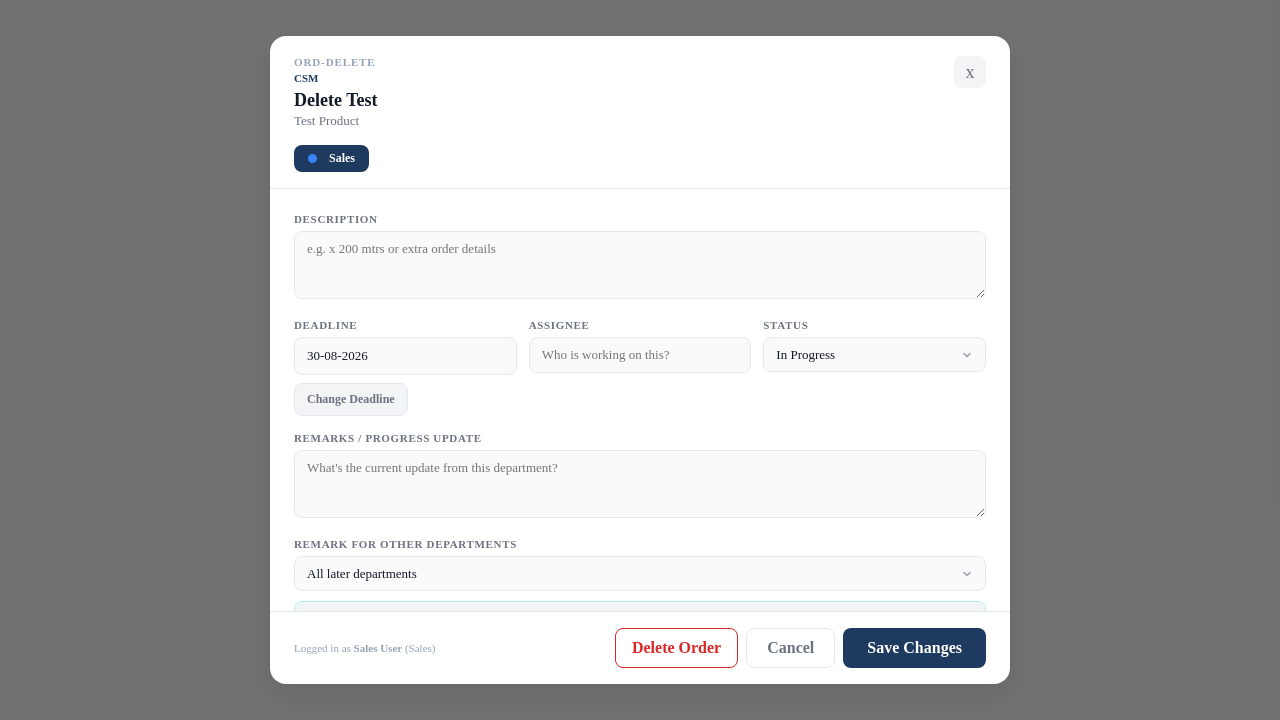
Scenario: OrderModal deletion › does not delete when confirmation is cancelled
Click the button "Delete Order": click(677, 648) [615,628,738,668]
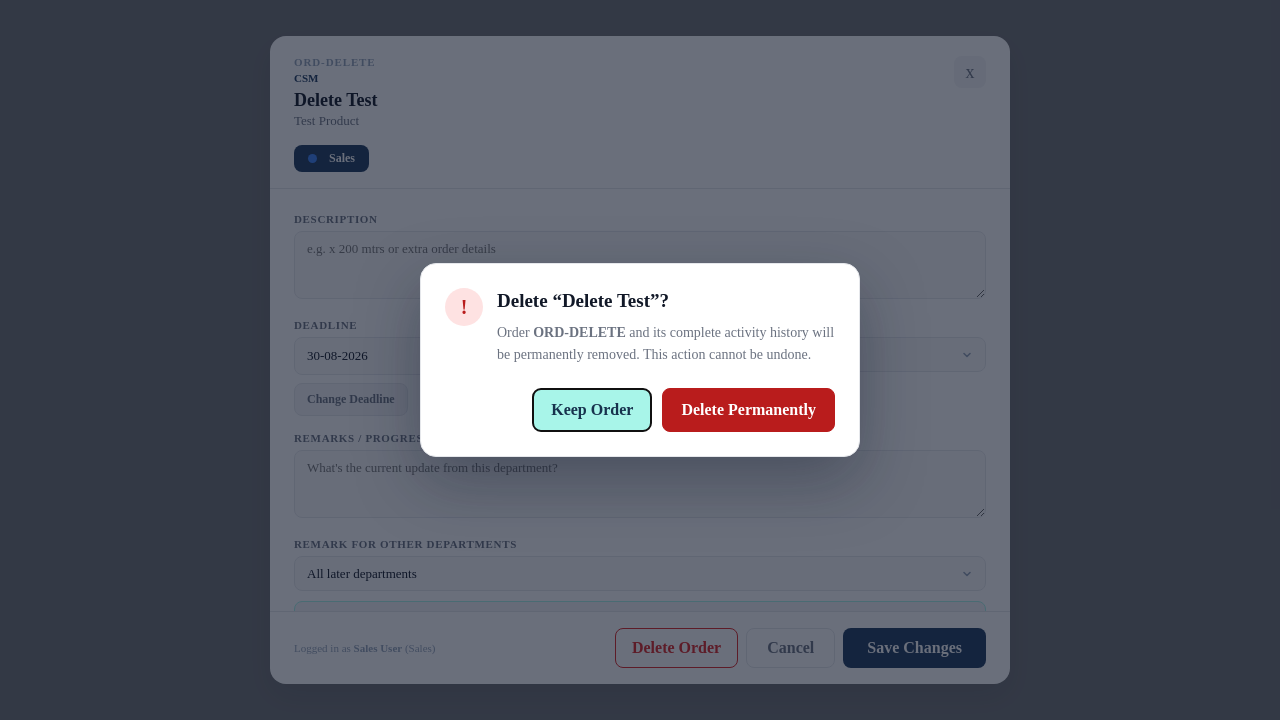
Result: the heading "Delete “Delete Test”?" is shown at [497,290,669,312]
Result: the dialog shows "Order ORD-DELETE" at [420,264,860,456]
Click the button "Keep Order": click(592, 410) [532,388,652,432]
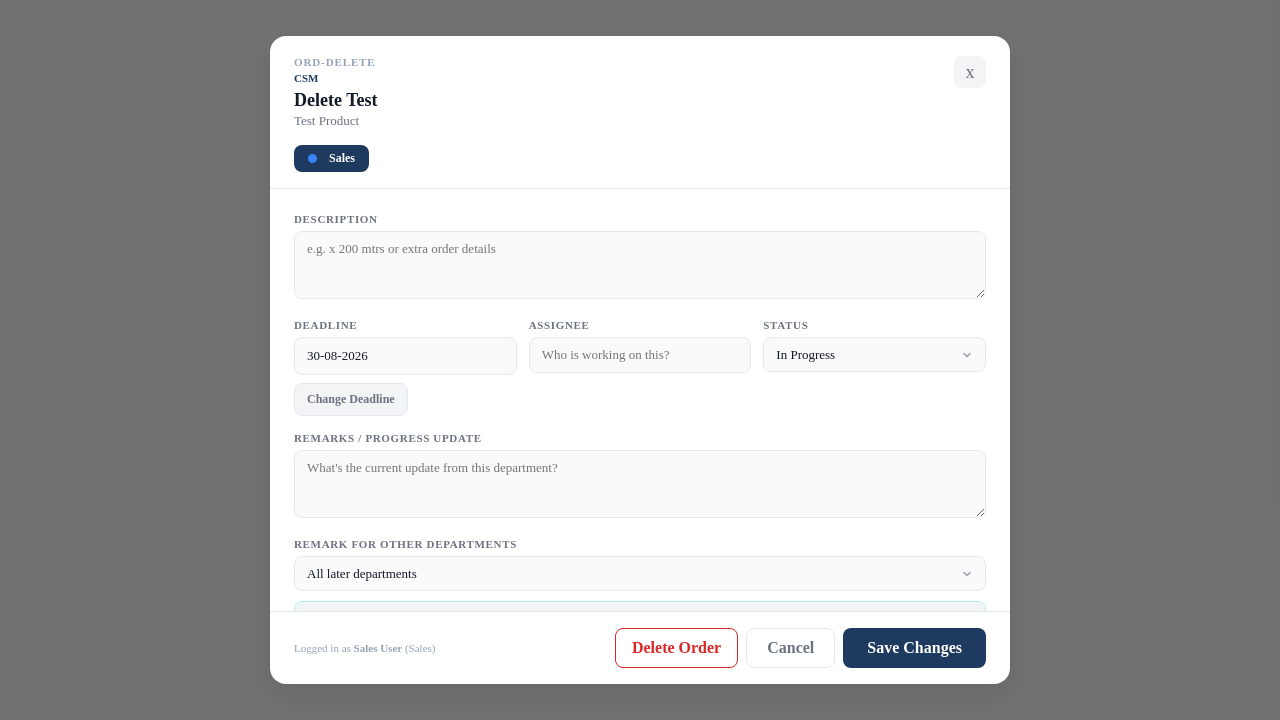
Result: the dialog is gone
